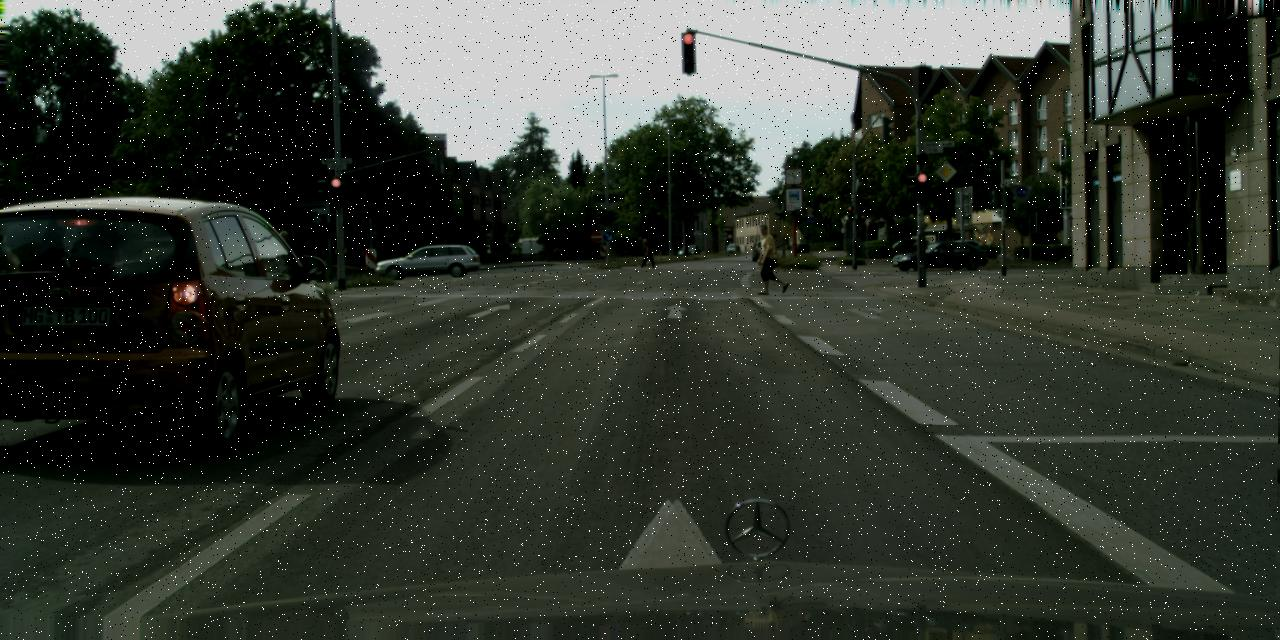ped: (754, 224, 782, 291), (640, 238, 651, 266)
